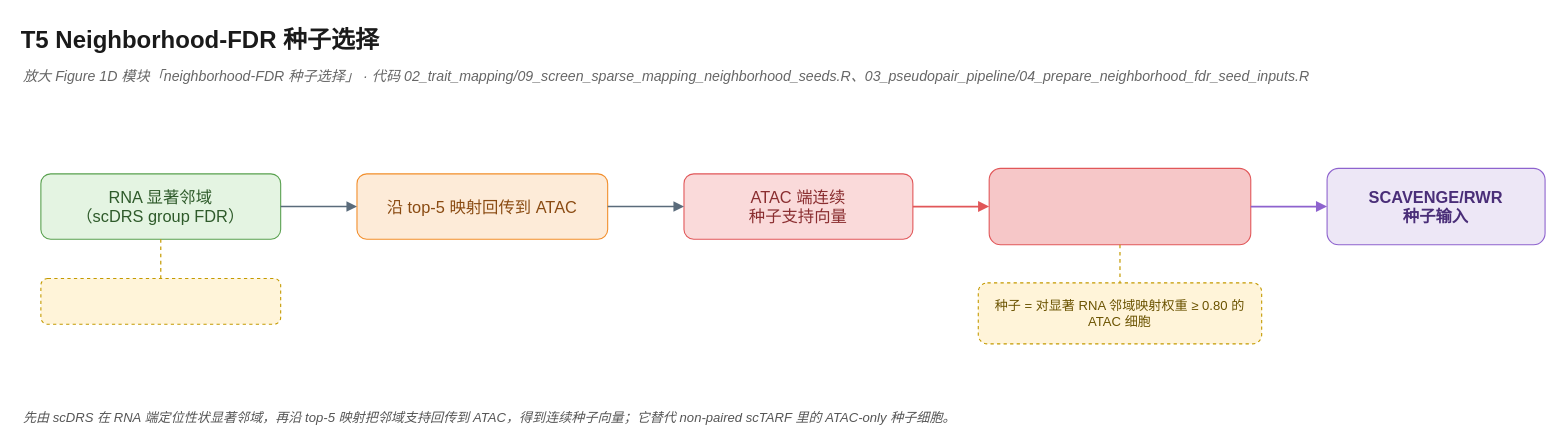
Image size: 1564x445. Some labels were removed from this diagram. The box of each missing label's shape, as (x1, y1, x2, y2) in pixels:
neighborhood-FDR 种子选择: (988, 167, 1251, 245)
邻域 qval ≤ 0.10 且 均分 > 0: (40, 277, 281, 324)
